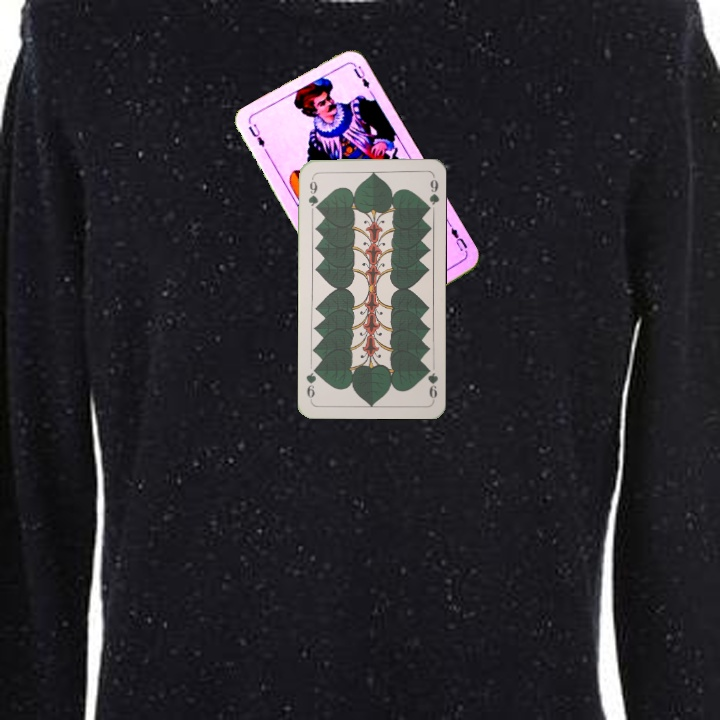EU: (446, 221, 470, 254), (244, 120, 267, 149)
G9: (421, 362, 440, 403), (304, 173, 321, 213)
